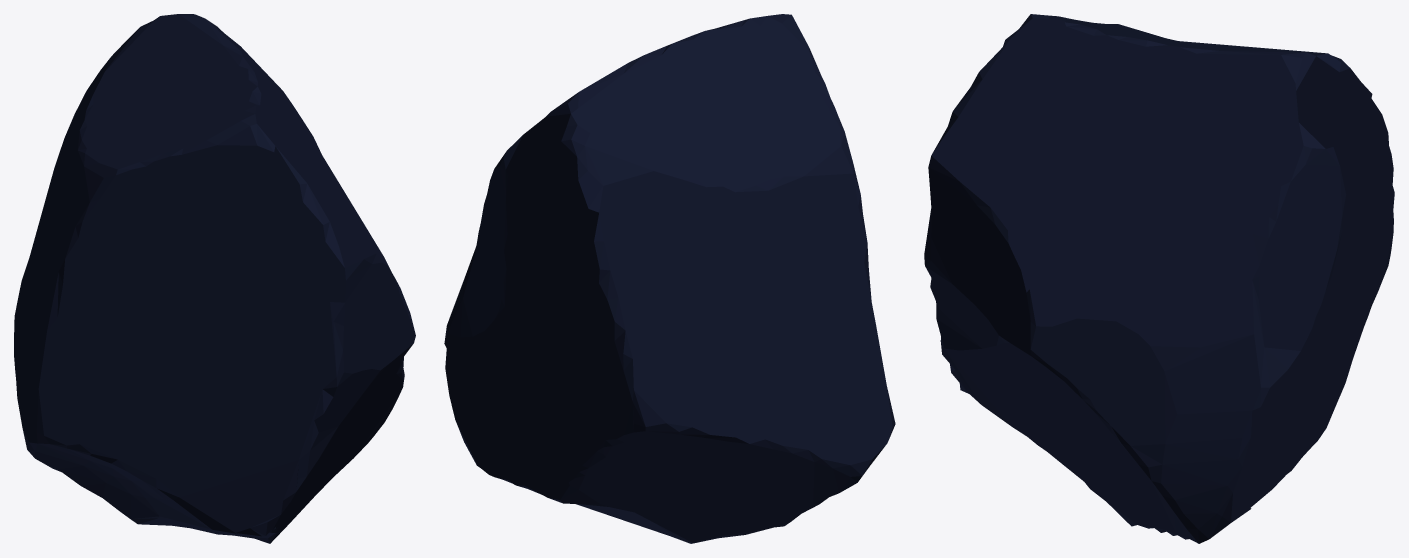
File: Rock.001.fbx
3 renders of one model, left to right at view 1: azimuth 30°, elevation 25°; view 2: azimuth 150°, elevation 25°; view 3: azimuth 270°, elevation 25°, orthographic. The views are drawn at different scales.
Parts seen in each view (by area): view 1: Rock; view 2: Rock; view 3: Rock.
Boxes of the visible parts, x1,y1,x2,y2 form: Rock: [14, 14, 415, 543]; Rock: [444, 14, 895, 543]; Rock: [924, 14, 1394, 543].
Bounding box in the file's own units: 239 × 287 × 254.
